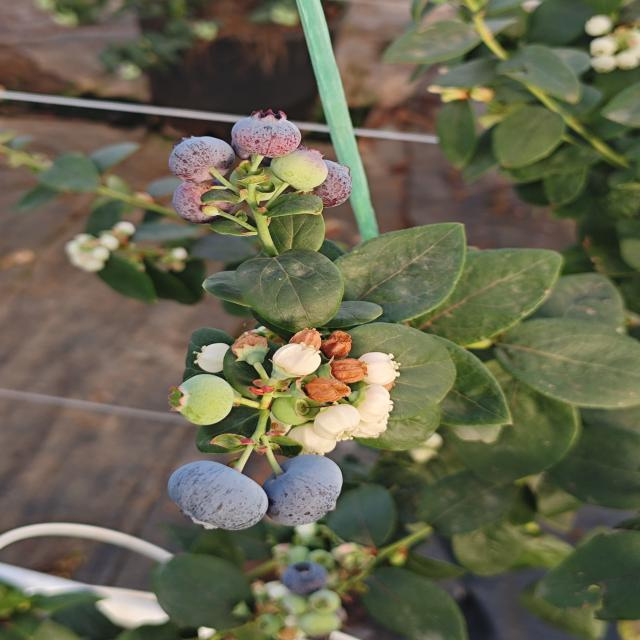ripe: (165, 459, 270, 533), (261, 453, 345, 528), (229, 108, 303, 160), (166, 135, 236, 185), (168, 182, 240, 223), (305, 156, 361, 207), (277, 559, 330, 597)
